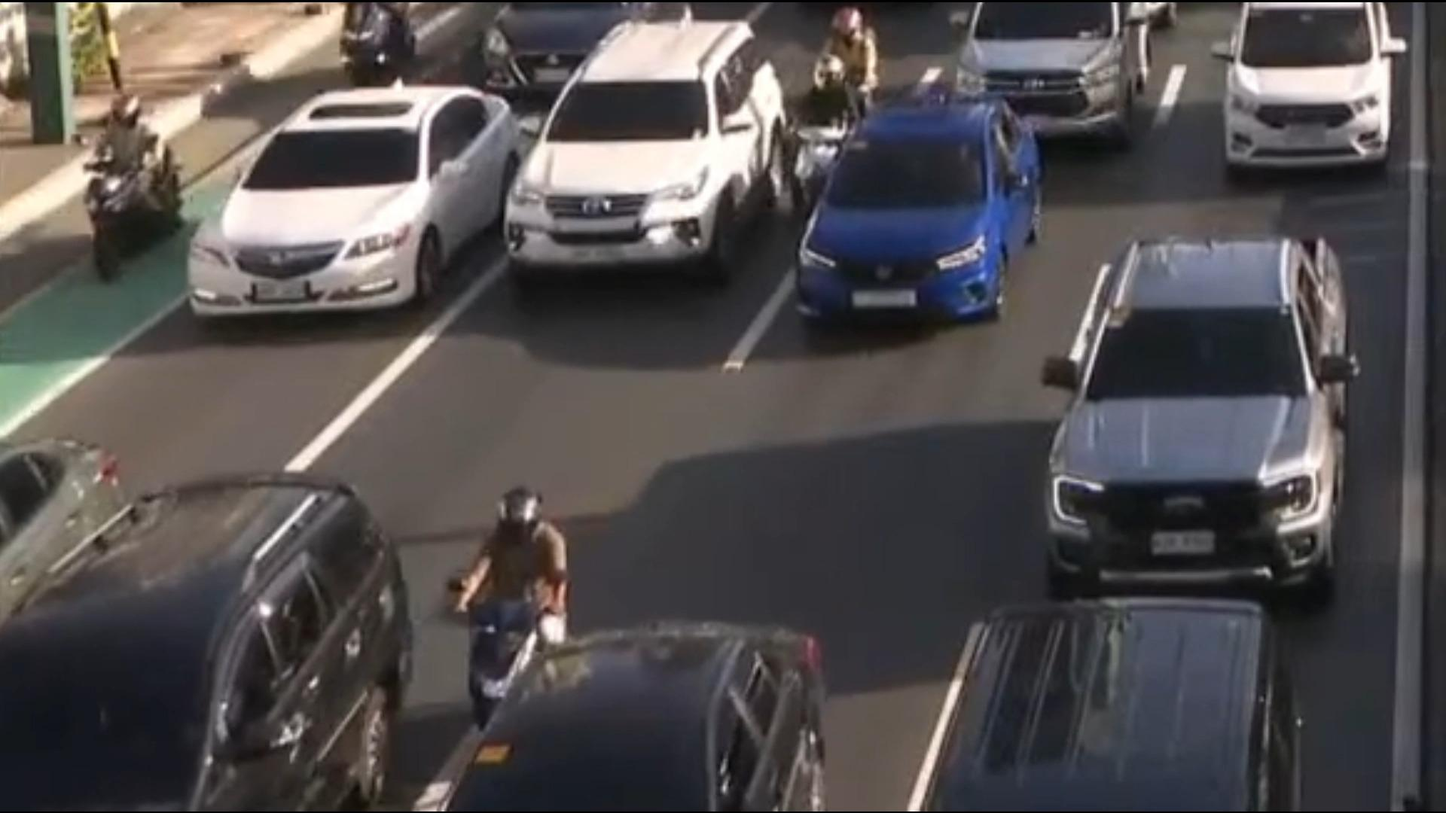Motorcycle: (447, 489, 562, 746), (72, 93, 182, 281), (787, 54, 859, 221)
SUV: (0, 476, 405, 813), (1038, 232, 1361, 610), (502, 18, 787, 282), (947, 0, 1170, 157), (1210, 0, 1407, 167)
Sedan: (188, 85, 518, 321), (436, 621, 825, 813), (800, 98, 1043, 334)
